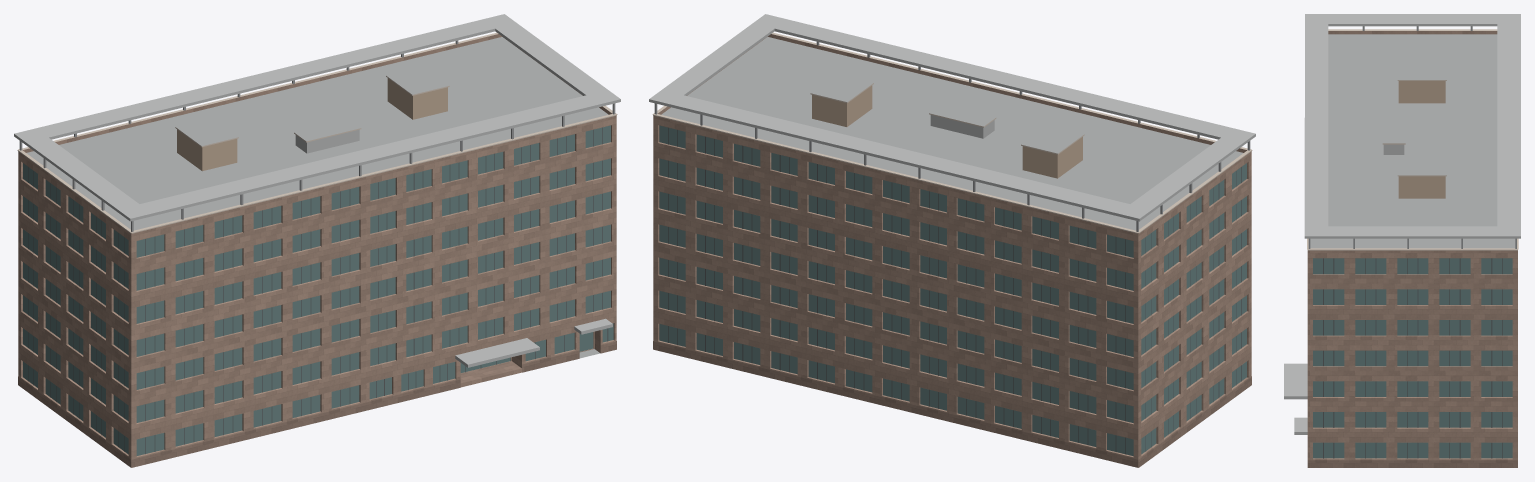
3 views of the same model, side by side, from view 1: azimuth 30°, elevation 25°; view 2: azimuth 150°, elevation 25°; view 3: azimuth 270°, elevation 25° (orthographic). The views are drawn at different scales.
Visible parts, largest first — view 1: teaching__wall, teaching__glass, teaching__roof, teaching__canopyTop, teaching__frame, teaching__canopy, teaching__base, teaching__parapet, teaching__trim, teaching__wall2, teaching__roofMetal, teaching__column; view 2: teaching__wall, teaching__glass, teaching__roof, teaching__canopyTop, teaching__frame, teaching__base, teaching__parapet, teaching__canopy, teaching__trim, teaching__wall2, teaching__roofMetal; view 3: teaching__roof, teaching__wall, teaching__glass, teaching__canopyTop, teaching__canopy, teaching__wall2, teaching__frame, teaching__base, teaching__parapet, teaching__trim.
Boxes of the visible parts, x1=… form: teaching__wall: x1=18, y1=118, x2=616, y2=467; teaching__glass: x1=23, y1=125, x2=613, y2=455; teaching__roof: x1=26, y1=37, x2=608, y2=358; teaching__canopyTop: x1=14, y1=14, x2=620, y2=218; teaching__frame: x1=28, y1=127, x2=608, y2=454; teaching__canopy: x1=14, y1=28, x2=620, y2=367; teaching__base: x1=18, y1=341, x2=616, y2=467; teaching__parapet: x1=18, y1=34, x2=616, y2=236; teaching__trim: x1=17, y1=32, x2=617, y2=233; teaching__wall2: x1=177, y1=78, x2=447, y2=171; teaching__roofMetal: x1=295, y1=129, x2=359, y2=153; teaching__column: x1=19, y1=40, x2=615, y2=231; teaching__wall: x1=653, y1=118, x2=1251, y2=467; teaching__glass: x1=659, y1=125, x2=1246, y2=456; teaching__roof: x1=661, y1=37, x2=1243, y2=230; teaching__canopyTop: x1=649, y1=14, x2=1255, y2=218; teaching__frame: x1=668, y1=127, x2=1241, y2=454; teaching__base: x1=653, y1=341, x2=1251, y2=467; teaching__parapet: x1=653, y1=34, x2=1251, y2=236; teaching__canopy: x1=649, y1=28, x2=1255, y2=221; teaching__trim: x1=652, y1=32, x2=1252, y2=233; teaching__wall2: x1=812, y1=85, x2=1082, y2=178; teaching__roofMetal: x1=930, y1=115, x2=994, y2=138; teaching__roof: x1=1310, y1=34, x2=1515, y2=248; teaching__wall: x1=1307, y1=253, x2=1517, y2=460; teaching__glass: x1=1313, y1=258, x2=1512, y2=458; teaching__canopyTop: x1=1304, y1=14, x2=1520, y2=236; teaching__canopy: x1=1284, y1=24, x2=1520, y2=434; teaching__wall2: x1=1398, y1=81, x2=1445, y2=198; teaching__frame: x1=1323, y1=258, x2=1502, y2=458; teaching__base: x1=1307, y1=460, x2=1517, y2=467; teaching__parapet: x1=1307, y1=31, x2=1517, y2=252; teaching__trim: x1=1307, y1=29, x2=1518, y2=250.
Bounding box in the file's own units: 55.89 × 28 × 25.17.
Materials: 13 (3 with a texture image).
